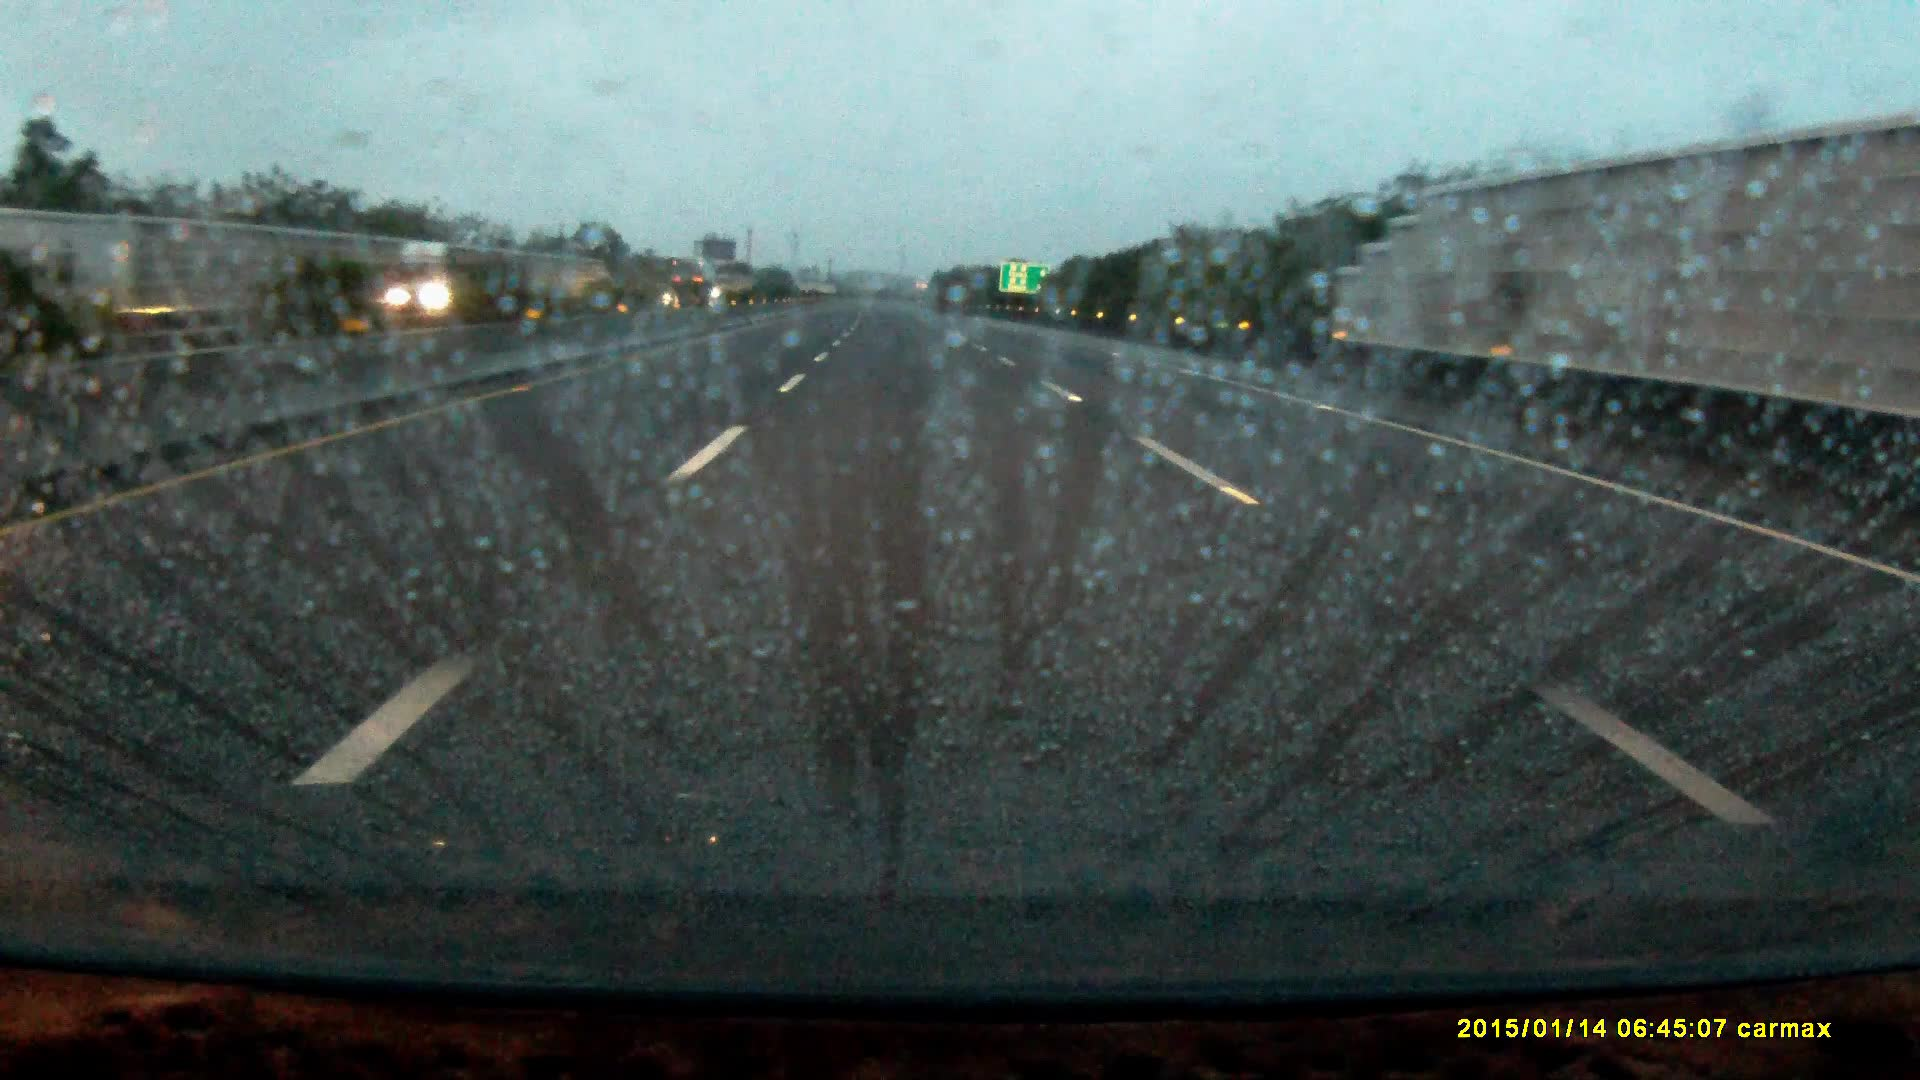vehicle: (386, 241, 498, 335), (670, 269, 721, 313)
